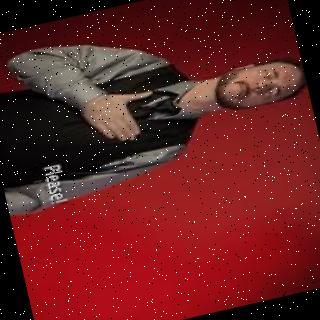Please: (76, 82, 166, 151)
